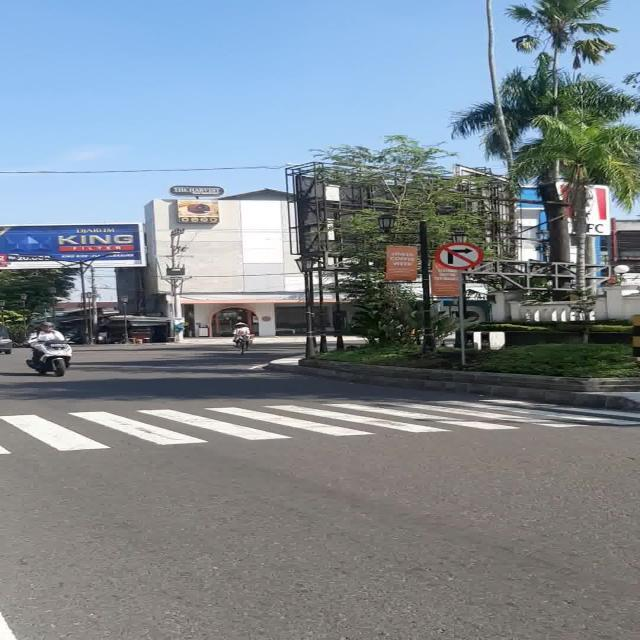Dilarang Belok Kanan: (436, 243, 484, 269)
